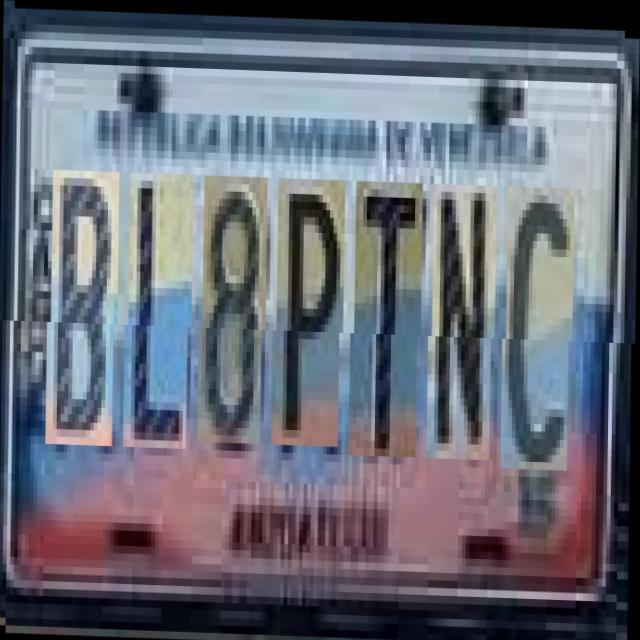8: (202, 174, 268, 442)
B: (51, 170, 120, 446)
C: (506, 183, 576, 467)
L: (128, 172, 194, 448)
N: (432, 180, 498, 457)
P: (276, 176, 346, 444)
T: (354, 178, 424, 454)
